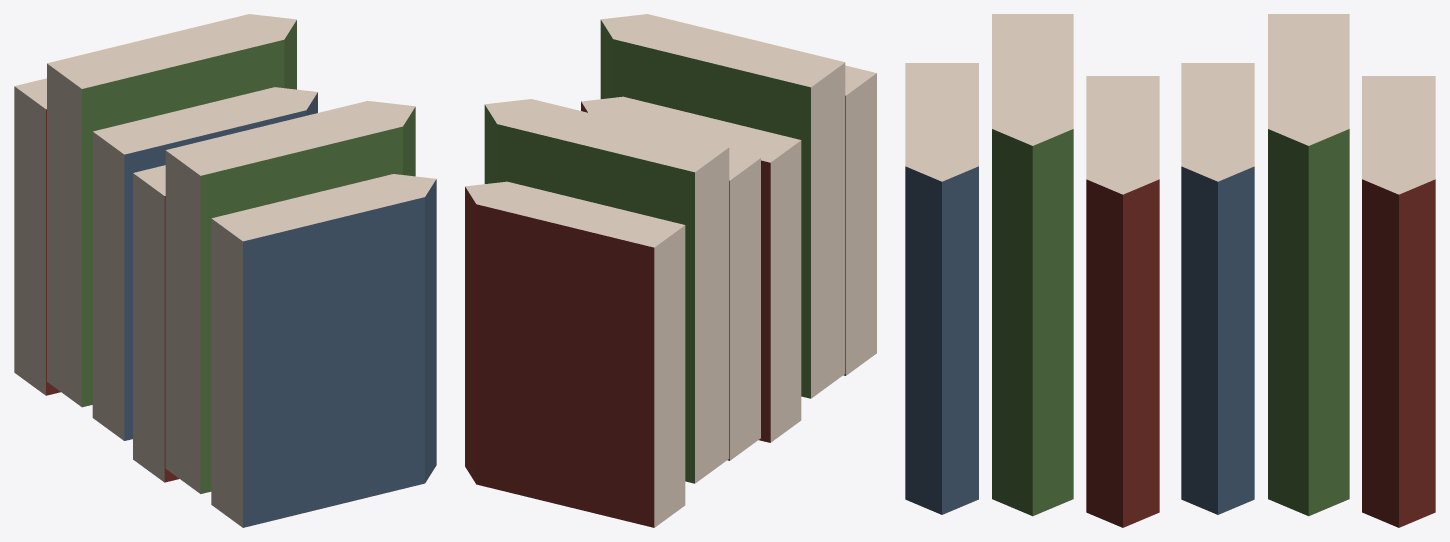
Rendered from Book_3_001.fbx.
3 renders of one model, left to right at view 1: azimuth 30°, elevation 25°; view 2: azimuth 150°, elevation 25°; view 3: azimuth 270°, elevation 25°, orthographic. The views are drawn at different scales.
Parts seen in each view (by area): view 1: Book 3.001; view 2: Book 3.001; view 3: Book 3.001.
Boxes of the visible parts, x1=… form: Book 3.001: x1=14, y1=14, x2=436, y2=527; Book 3.001: x1=465, y1=14, x2=876, y2=527; Book 3.001: x1=905, y1=14, x2=1435, y2=527.
Bounding box in the file's own units: 55.13 × 76.44 × 93.59.
